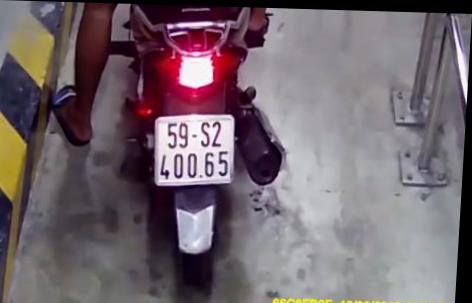License_Plate: (146, 109, 251, 193)
